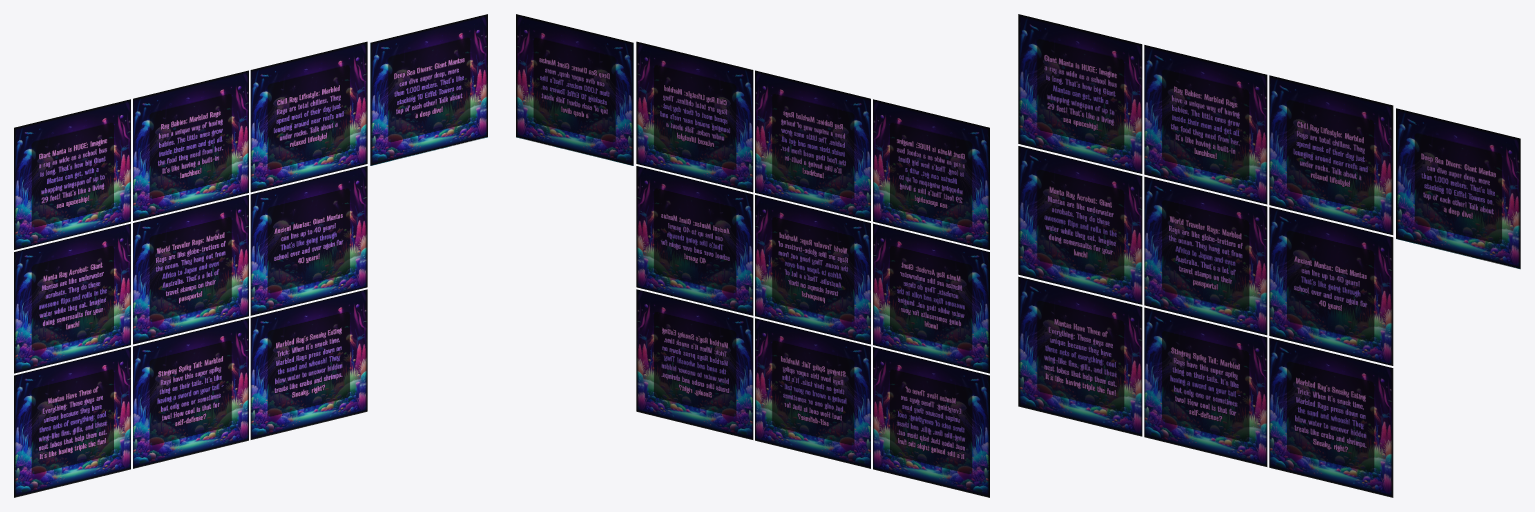
File: Mantay Ray Fun Facts.fbx
3 renders of one model, left to right at view 1: azimuth 30°, elevation 25°; view 2: azimuth 150°, elevation 25°; view 3: azimuth 330°, elevation 25°, orthographic. The views are drawn at different scales.
Visible parts, largest first — view 1: Plane.016, Plane.002, Plane.004, Plane.006, Plane.001, Object, Plane.005, Plane.007, Plane.008, Plane.009; view 2: Plane.016, Plane.002, Plane.004, Plane.006, Plane.001, Object, Plane.005, Plane.008, Plane.007, Plane.009; view 3: Plane.016, Plane.001, Plane.002, Object, Plane.004, Plane.005, Plane.006, Plane.007, Plane.008, Plane.009.
Boxes of the visible parts, x1,y1,x2,y2 form: Plane.016: (370, 14, 487, 165); Plane.002: (250, 289, 367, 439); Plane.004: (250, 41, 367, 192); Plane.006: (250, 166, 367, 315); Plane.001: (14, 347, 130, 497); Object: (14, 99, 130, 249); Plane.005: (14, 223, 130, 373); Plane.007: (133, 318, 248, 468); Plane.008: (133, 70, 248, 220); Plane.009: (133, 195, 248, 344); Plane.016: (516, 14, 633, 165); Plane.002: (636, 289, 753, 439); Plane.004: (636, 41, 753, 192); Plane.006: (636, 166, 753, 315); Plane.001: (873, 347, 989, 497); Object: (873, 99, 989, 249); Plane.005: (873, 223, 989, 373); Plane.008: (755, 70, 870, 220); Plane.007: (755, 318, 870, 468); Plane.009: (755, 195, 870, 344); Plane.016: (1396, 108, 1520, 269); Plane.001: (1018, 276, 1142, 436); Plane.002: (1269, 338, 1393, 497); Object: (1018, 14, 1142, 173); Plane.004: (1269, 75, 1393, 234); Plane.005: (1018, 146, 1142, 304); Plane.006: (1269, 207, 1393, 365); Plane.007: (1144, 307, 1267, 466); Plane.008: (1144, 45, 1267, 204); Plane.009: (1144, 176, 1267, 335).
Size of the model in its own units: 268 by 200 by 3.26e-05.
